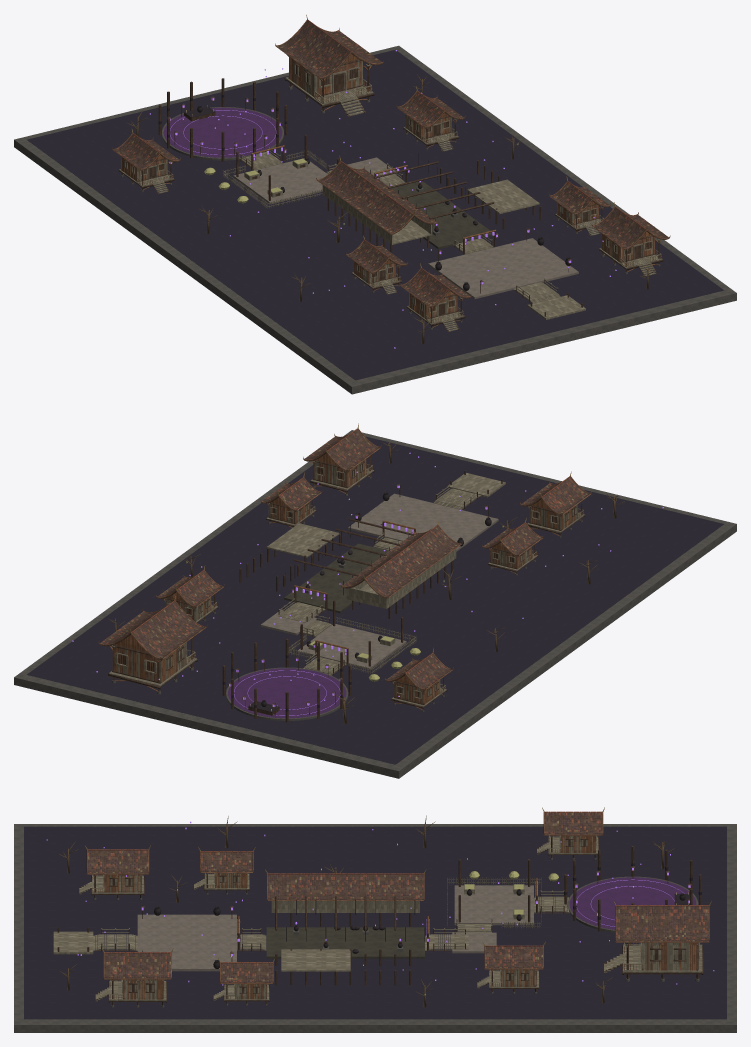
The model's file is dg-saiyadam.glb.
The picture shows the model from 3 angles, top to bottom: view 1: azimuth 30°, elevation 25°; view 2: azimuth 150°, elevation 25°; view 3: azimuth 270°, elevation 25°; orthographic projection. The views are drawn at different scales.
Visible parts, largest first — view 1: Water surface | water_ink, Dungeon foundation | stone_dark, Roof / closed timber underlay | roof_under, Roof / overlapping clay tiles | roof_dark, Courtyard flagstones | stone_ash, Ritual floor | cloth_violet, Under-house packed earth | mud_dark, Kitchen floor | stone_ash, Building / floorboards | wood_weathered, Roof / overlapping clay tiles | tile_dark, Bridge / separate deck boards | wood_weathered, Collapsed house floor | wood_weathered (+17 smaller); view 2: Water surface | water_ink, Dungeon foundation | stone_dark, Roof / closed timber underlay | roof_under, Roof / overlapping clay tiles | roof_dark, Ritual floor | cloth_violet, Courtyard flagstones | stone_ash, Under-house packed earth | mud_dark, Kitchen floor | stone_ash, Bridge / separate deck boards | wood_weathered, Roof / overlapping clay tiles | tile_dark, Building / vertical timber siding | wood_weathered, Collapsed house floor | wood_weathered (+21 smaller); view 3: Water surface | water_ink, Dungeon foundation | stone_dark, Roof / closed timber underlay | roof_under, Roof / overlapping clay tiles | roof_dark, Courtyard flagstones | stone_ash, Under-house packed earth | mud_dark, Building / floorboards | wood_weathered, Ritual floor | cloth_violet, Kitchen floor | stone_ash, Bridge / separate deck boards | wood_weathered, Roof / overlapping clay tiles | tile_dark, Building / side-wall siding | wood_weathered (+26 smaller).
Boxes of the visible parts, box(x1,y1,x2,y2) form: Water surface | water_ink: box(27, 49, 723, 380); Dungeon foundation | stone_dark: box(14, 45, 736, 394); Roof / closed timber underlay | roof_under: box(114, 21, 667, 306); Roof / overlapping clay tiles | roof_dark: box(115, 21, 668, 305); Courtyard flagstones | stone_ash: box(428, 238, 578, 299); Ritual floor | cloth_violet: box(163, 107, 282, 157); Under-house packed earth | mud_dark: box(391, 180, 493, 249); Kitchen floor | stone_ash: box(233, 158, 327, 204); Building / floorboards | wood_weathered: box(119, 73, 662, 324); Roof / overlapping clay tiles | tile_dark: box(117, 22, 662, 303); Bridge / separate deck boards | wood_weathered: box(238, 151, 560, 303); Collapsed house floor | wood_weathered: box(467, 179, 539, 213); Water surface | water_ink: box(27, 436, 723, 764); Dungeon foundation | stone_dark: box(14, 430, 736, 778); Roof / closed timber underlay | roof_under: box(100, 430, 590, 689); Roof / overlapping clay tiles | roof_dark: box(101, 429, 589, 687); Ritual floor | cloth_violet: box(228, 668, 346, 718); Courtyard flagstones | stone_ash: box(348, 493, 498, 551); Under-house packed earth | mud_dark: box(284, 543, 388, 613); Kitchen floor | stone_ash: box(297, 624, 406, 669); Bridge / separate deck boards | wood_weathered: box(278, 488, 481, 675); Roof / overlapping clay tiles | tile_dark: box(100, 433, 583, 688); Building / vertical timber siding | wood_weathered: box(118, 461, 560, 704); Collapsed house floor | wood_weathered: box(266, 523, 339, 557); Water surface | water_ink: box(24, 826, 726, 1019); Dungeon foundation | stone_dark: box(14, 824, 736, 1032); Roof / closed timber underlay | roof_under: box(87, 812, 708, 982); Roof / overlapping clay tiles | roof_dark: box(87, 812, 708, 982); Courtyard flagstones | stone_ash: box(137, 914, 236, 971); Under-house packed earth | mud_dark: box(266, 927, 424, 958); Building / floorboards | wood_weathered: box(92, 836, 702, 1000); Ritual floor | cloth_violet: box(569, 877, 696, 929); Kitchen floor | stone_ash: box(454, 885, 533, 925); Bridge / separate deck boards | wood_weathered: box(93, 896, 569, 950); Roof / overlapping clay tiles | tile_dark: box(87, 812, 708, 982); Building / side-wall siding | wood_weathered: box(110, 835, 689, 999).
Bounding box in the file's own units: 96 × 17.38 × 146.
23 materials, 23 textured.
